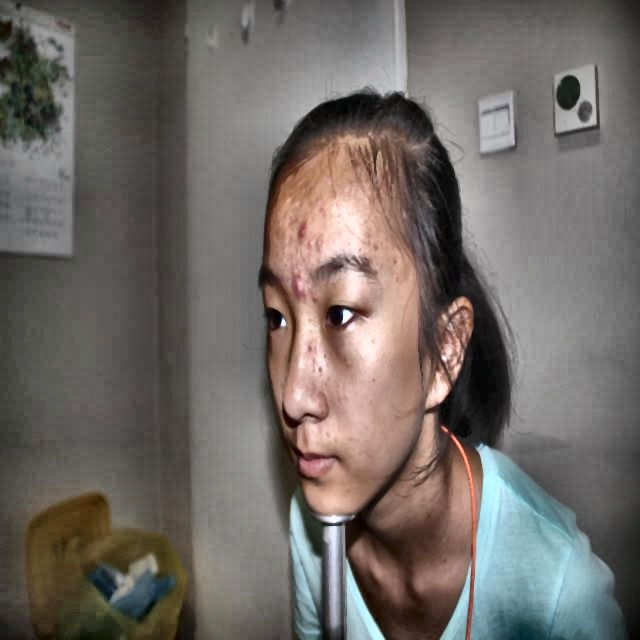pustule: (314, 234, 331, 259), (304, 354, 321, 372), (296, 222, 306, 238), (304, 340, 314, 354), (313, 291, 321, 306), (304, 236, 310, 249)
